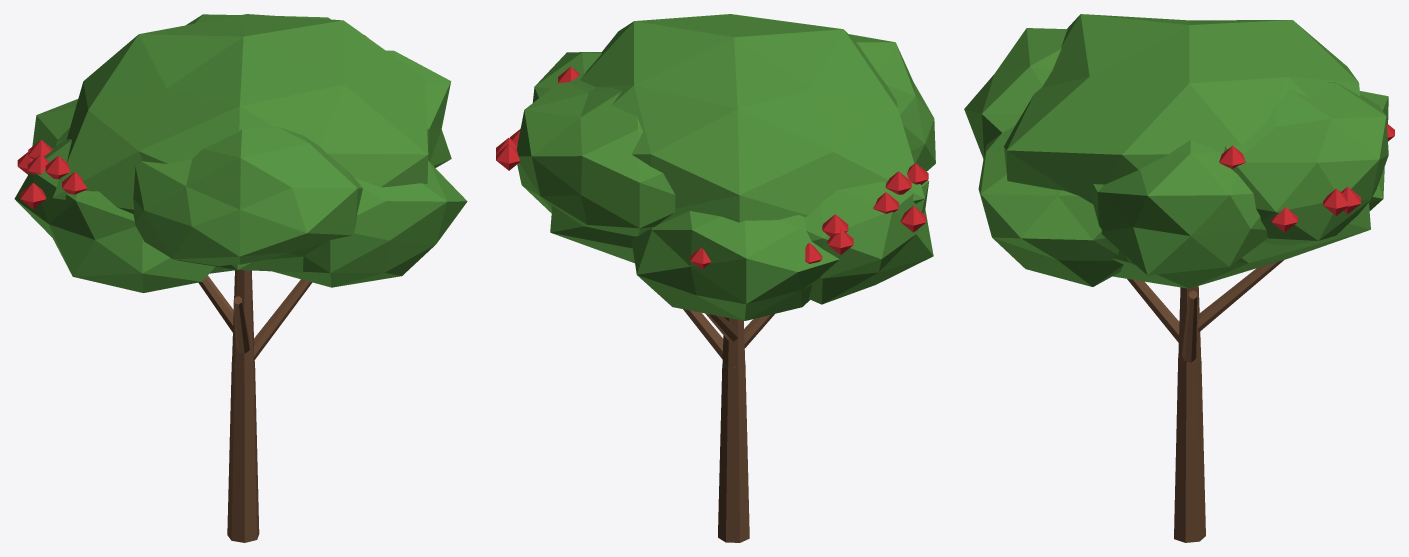
Rendered from apple_tree.glb.
The picture shows the model from 3 angles, left to right: view 1: azimuth 30°, elevation 25°; view 2: azimuth 150°, elevation 25°; view 3: azimuth 270°, elevation 25°; orthographic projection. The views are drawn at different scales.
Parts seen in each view (by area): view 1: apple_tree; view 2: apple_tree; view 3: apple_tree.
Boxes of the visible parts, x1,y1,x2,y2 form: apple_tree: [14, 14, 467, 542]; apple_tree: [496, 14, 935, 542]; apple_tree: [964, 14, 1394, 542].
Bounding box in the file's own units: 3.06 × 3.69 × 2.82.
